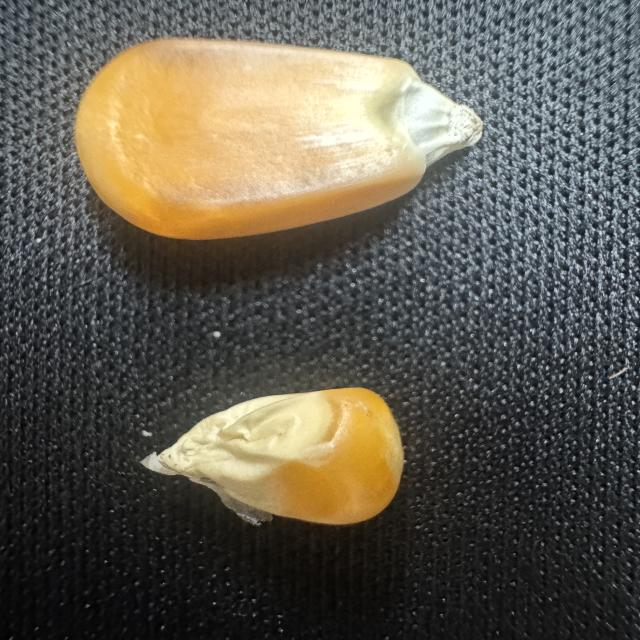Bad-Seed: (132, 380, 414, 530)
Good-Seed: (70, 29, 497, 249)
